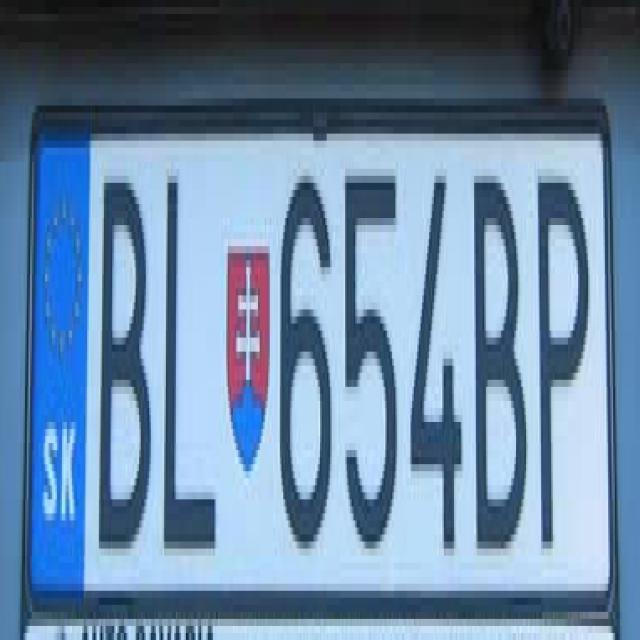EU: (29, 114, 607, 608)
Slovaquie: (30, 131, 84, 599)
